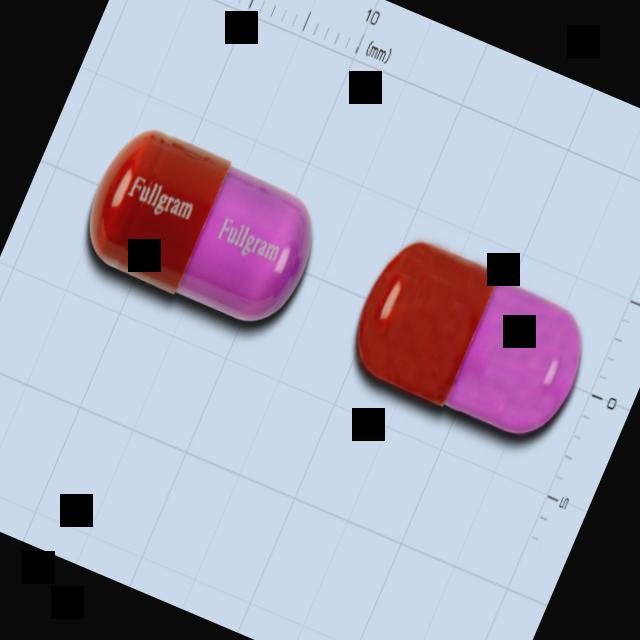Fullgram Cap: (69, 115, 334, 339)
